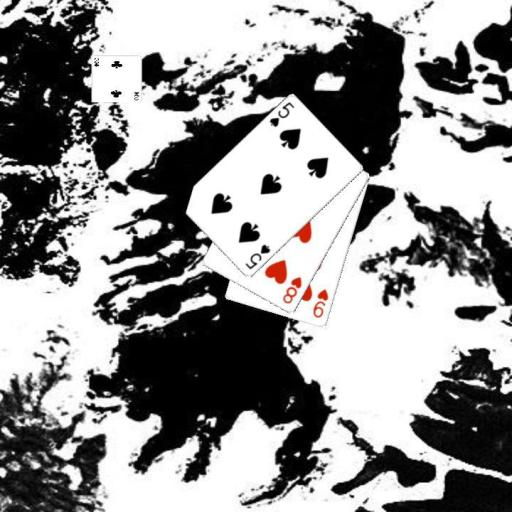5S: (242, 241, 272, 271), (266, 99, 296, 129)
8H: (279, 274, 303, 306)
9H: (310, 286, 330, 319)
